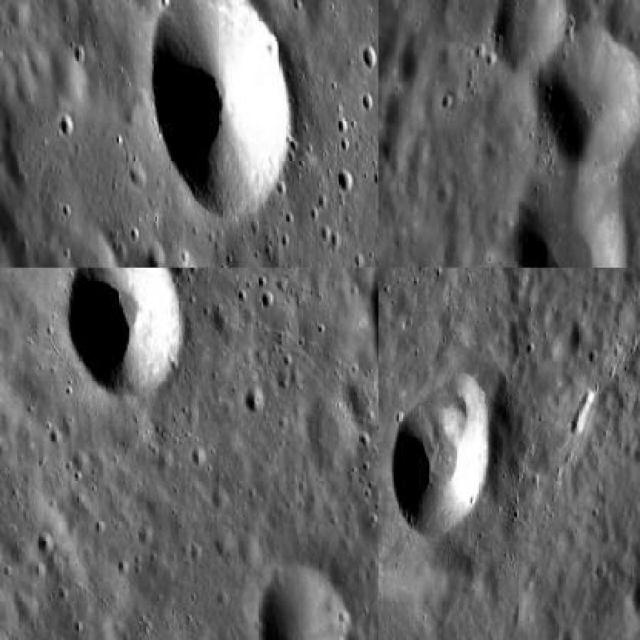crater: (151, 0, 294, 226), (393, 380, 490, 543), (68, 267, 186, 398), (537, 29, 640, 166), (517, 165, 629, 266), (258, 563, 357, 639), (497, 0, 570, 72)
